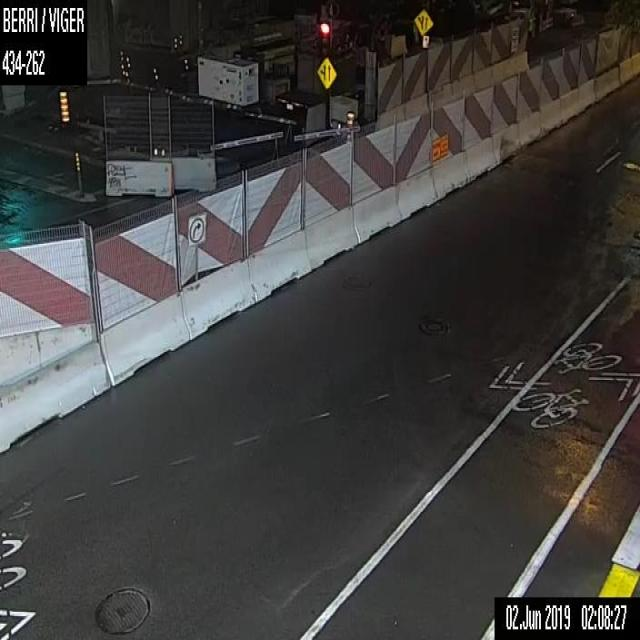construction: (58, 88, 72, 125), (344, 110, 355, 140)
